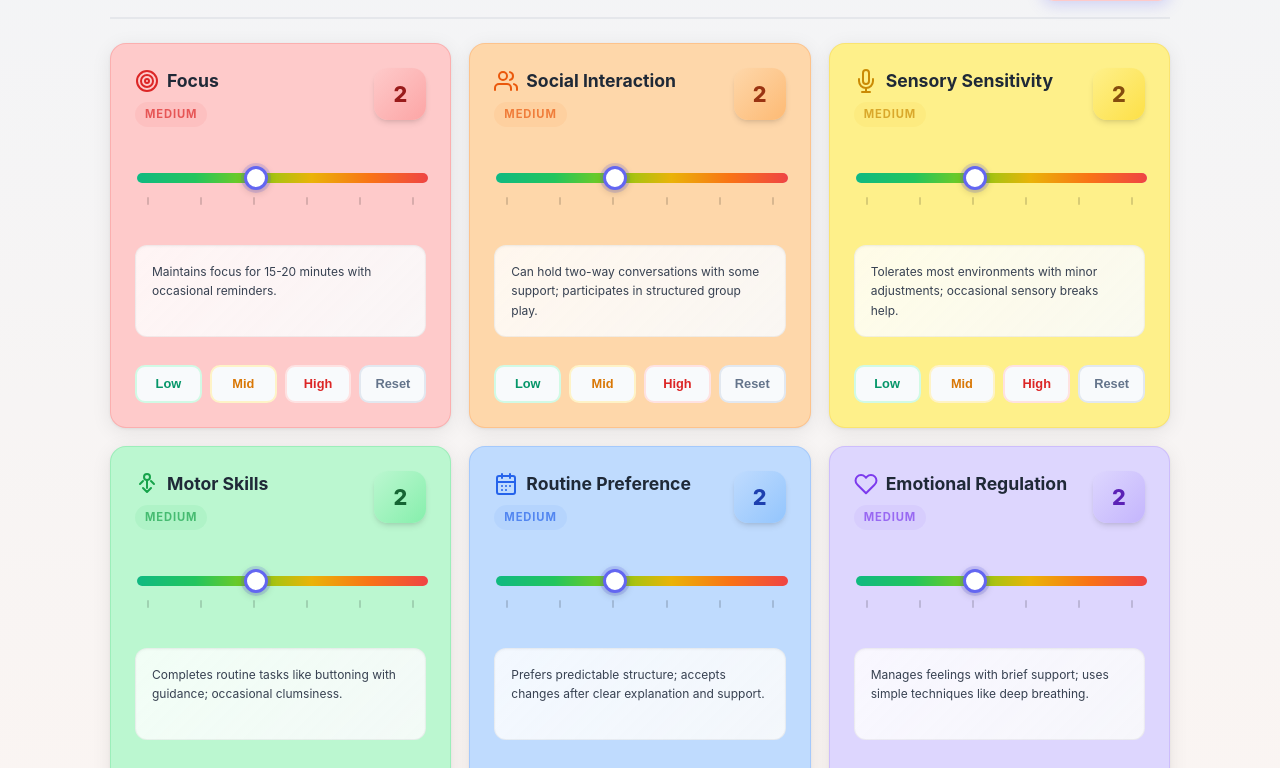
Test: Application Integration Tests › Metric Slider Interactions › should support preset button clicks
(page scrolled)
Click the button with aria-label "Set to high".
click(318, 384)  # box [285,365,352,403]
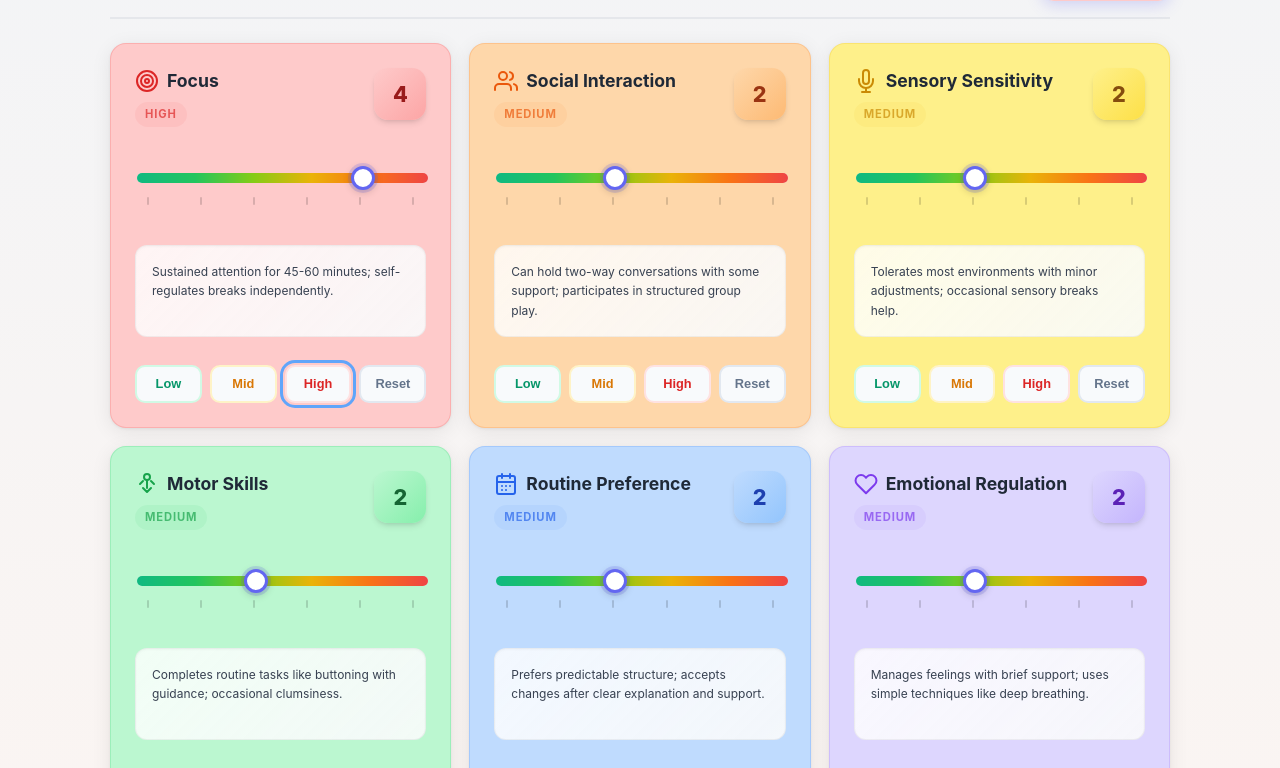
Result: the slider named "Focus metric slider" holds "4" at [137,173,428,183]
